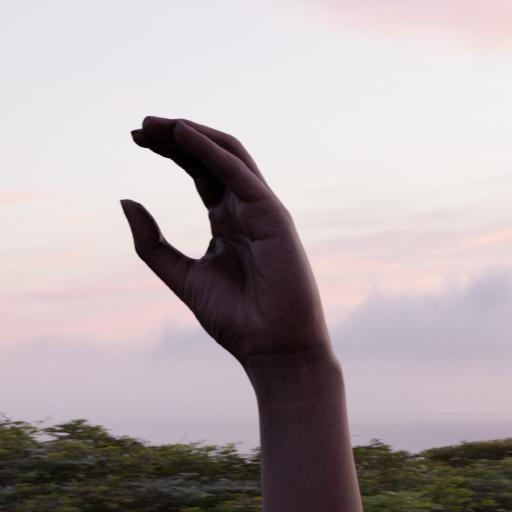C: (104, 104, 356, 426)
